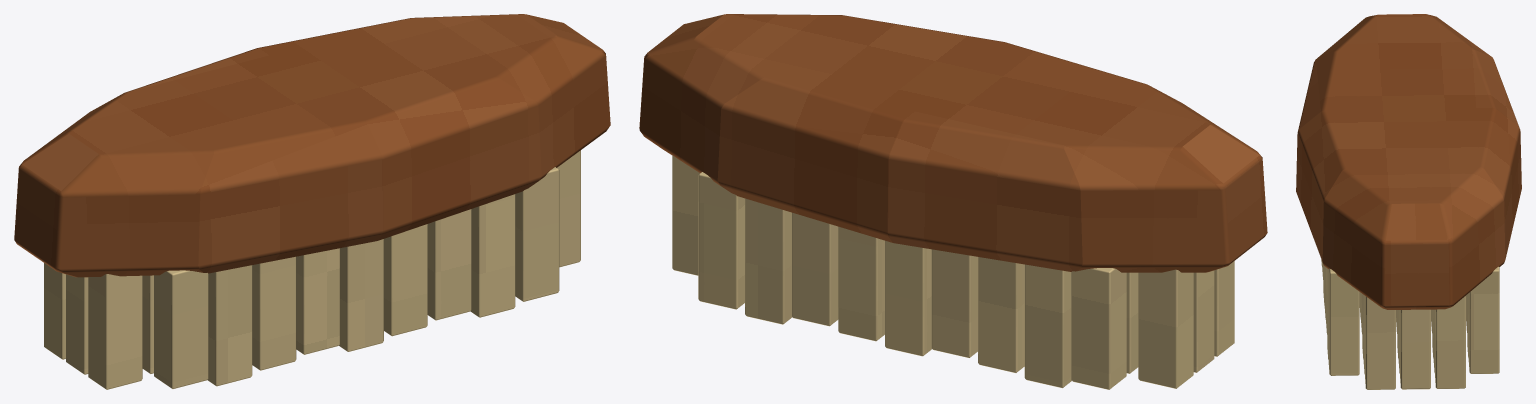
The model's file is ScrubbingBrush.glb.
3 renders of one model, left to right at view 1: azimuth 30°, elevation 25°; view 2: azimuth 150°, elevation 25°; view 3: azimuth 270°, elevation 25°, orthographic. The views are drawn at different scales.
Parts seen in each view (by area): view 1: ScrubbingBrush.Beech-back, ScrubbingBrush.Bristle-tufts; view 2: ScrubbingBrush.Beech-back, ScrubbingBrush.Bristle-tufts; view 3: ScrubbingBrush.Beech-back, ScrubbingBrush.Bristle-tufts.
Boxes of the visible parts, x1,y1,x2,y2 form: ScrubbingBrush.Beech-back: (14, 14, 610, 277); ScrubbingBrush.Bristle-tufts: (44, 150, 580, 389); ScrubbingBrush.Beech-back: (639, 14, 1267, 272); ScrubbingBrush.Bristle-tufts: (672, 155, 1234, 389); ScrubbingBrush.Beech-back: (1296, 14, 1521, 309); ScrubbingBrush.Bristle-tufts: (1321, 259, 1499, 389).
Bounding box in the file's own units: 0.3364 × 0.1289 × 0.139.
2 materials, 2 textured.
